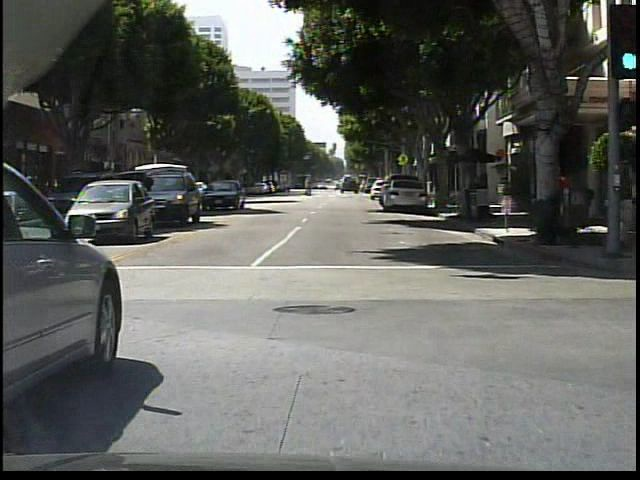person: (556, 169, 572, 235), (466, 169, 482, 221), (302, 178, 312, 197)
